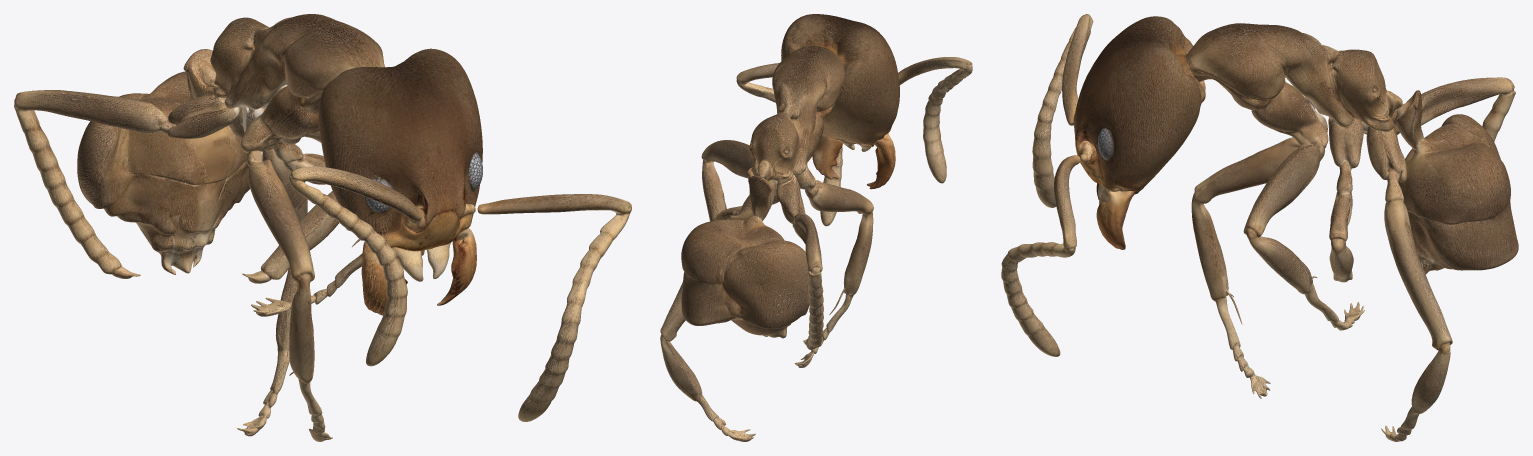
Rendered from esp3.glb.
3 renders of one model, left to right at view 1: azimuth 30°, elevation 25°; view 2: azimuth 150°, elevation 25°; view 3: azimuth 270°, elevation 25°, orthographic. The views are drawn at different scales.
Size of the model in its own units: 1.35 by 1.67 by 1.9.
Materials: 1 (1 with a texture image).
